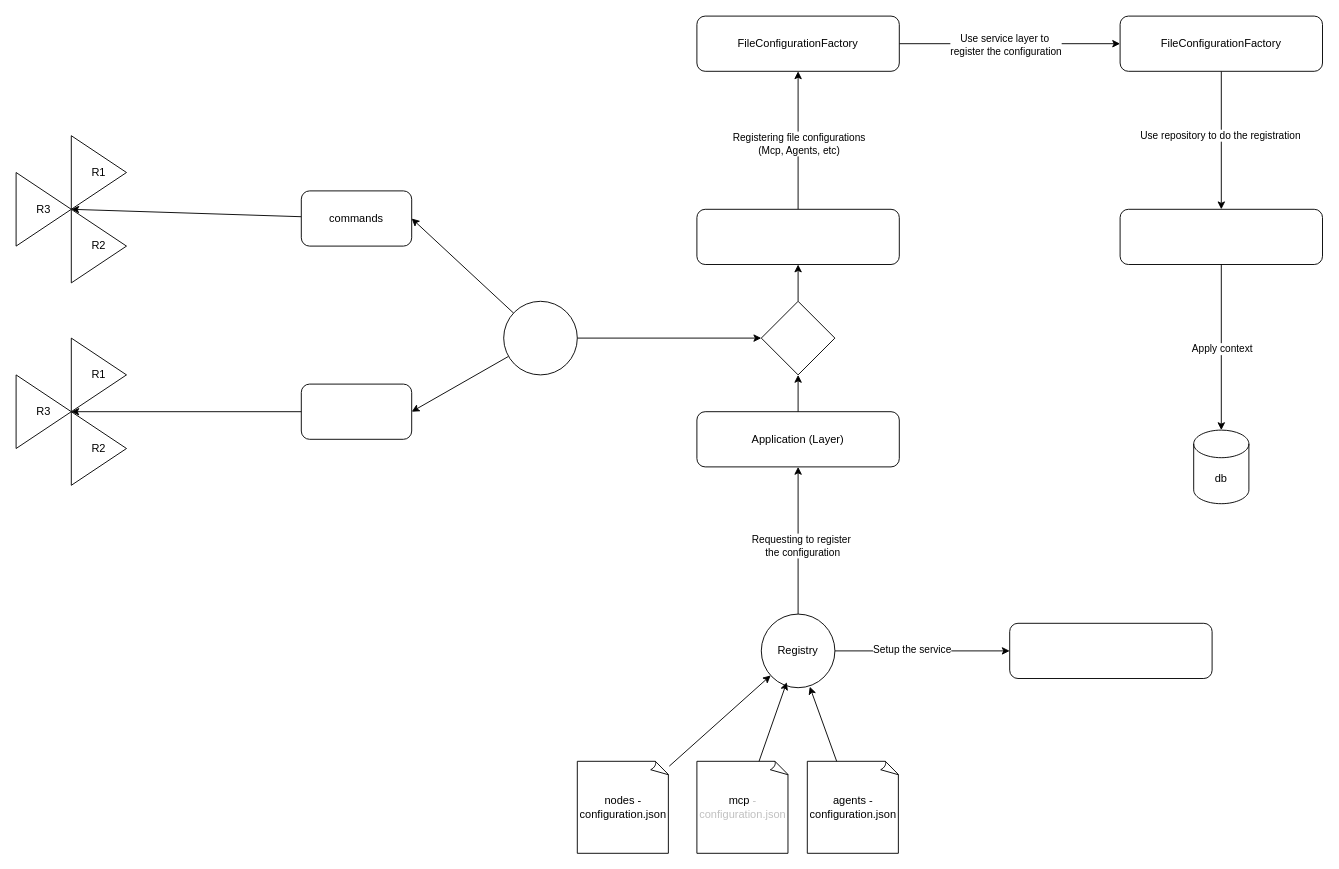
The diagram is 1339 pixels wide and 869 high, and some of its shapes have lost their labels. The shapes that lost their labels are listed below. From the top down, each one's box as (x1, y1, x2, y2) in pixels, then its label:
(696, 208, 899, 264): ConfigurationRegistryHandler
(1119, 208, 1322, 264): Repository
(503, 300, 577, 375): gaurd-switch
(760, 300, 835, 375): firewall
(300, 383, 412, 439): queries
(1009, 622, 1212, 678): Startup
